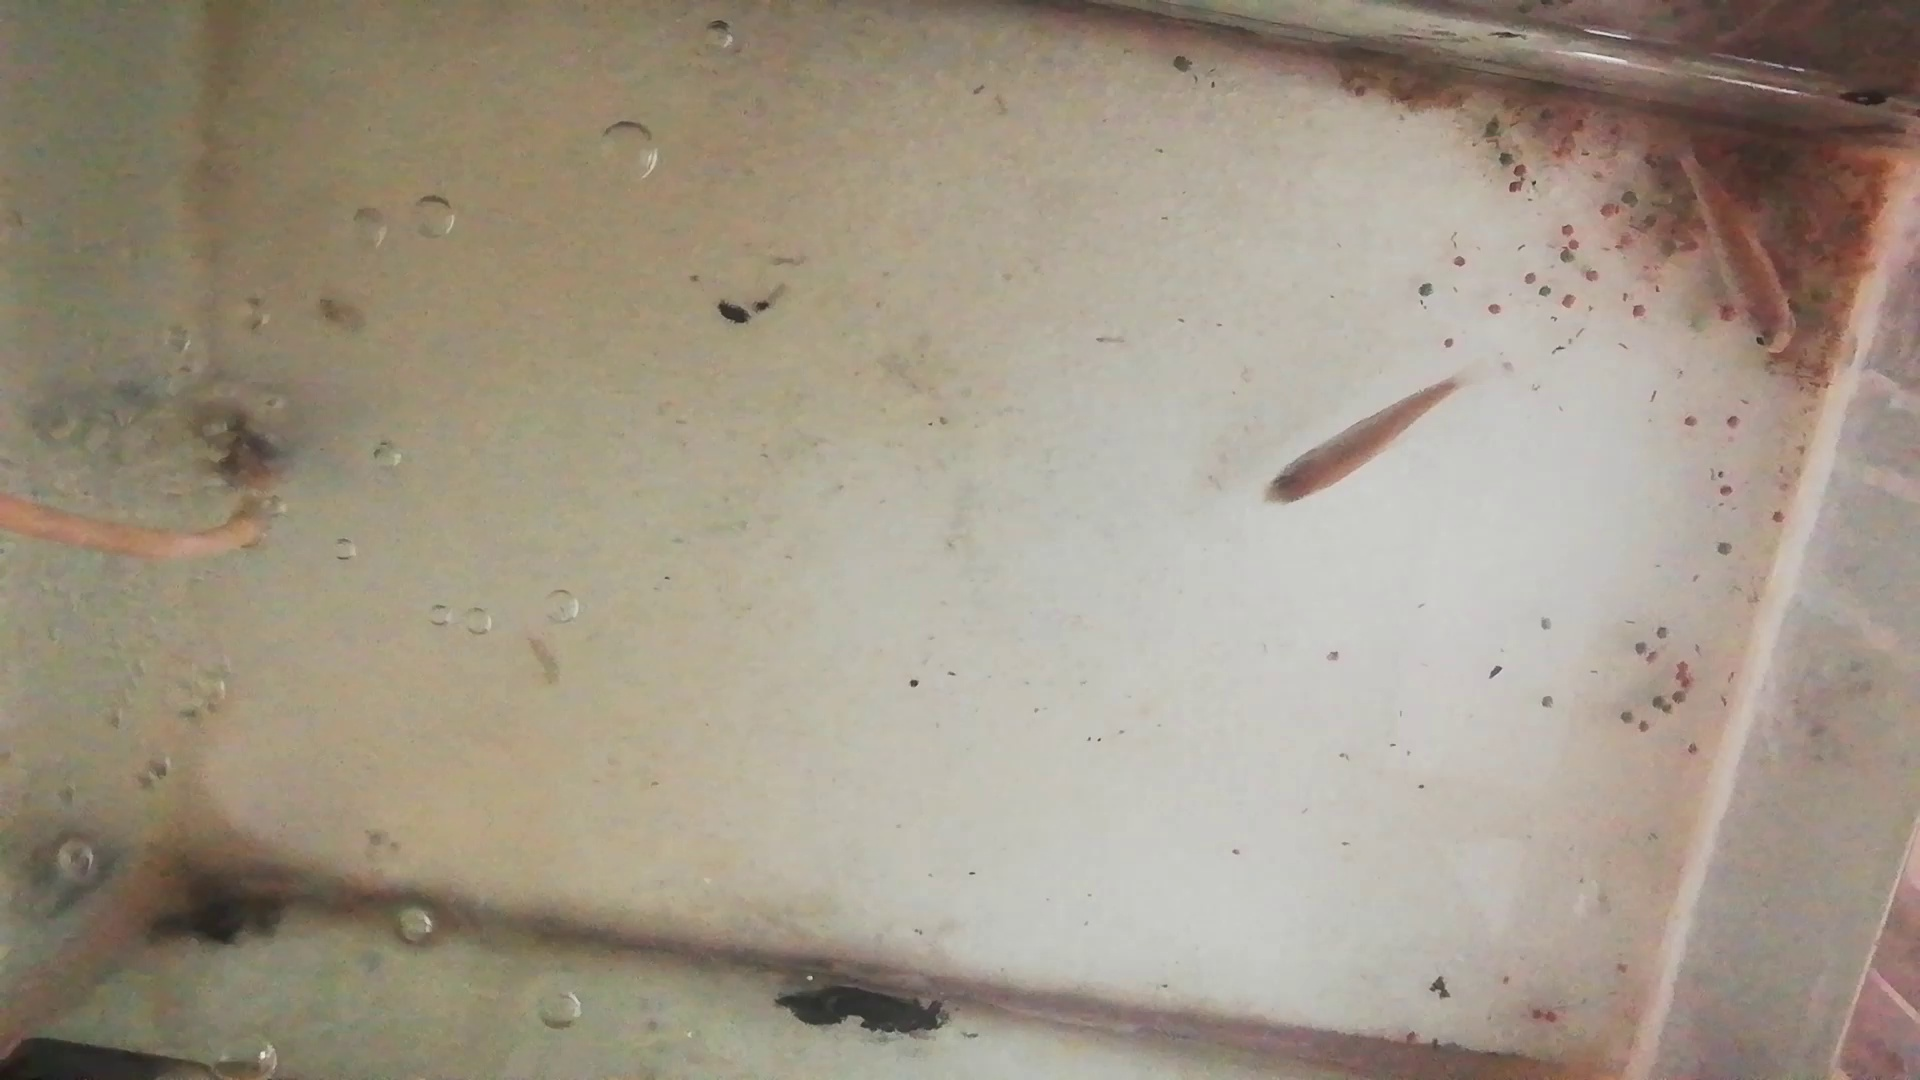fish: (1262, 375, 1457, 506), (1680, 158, 1793, 359)
